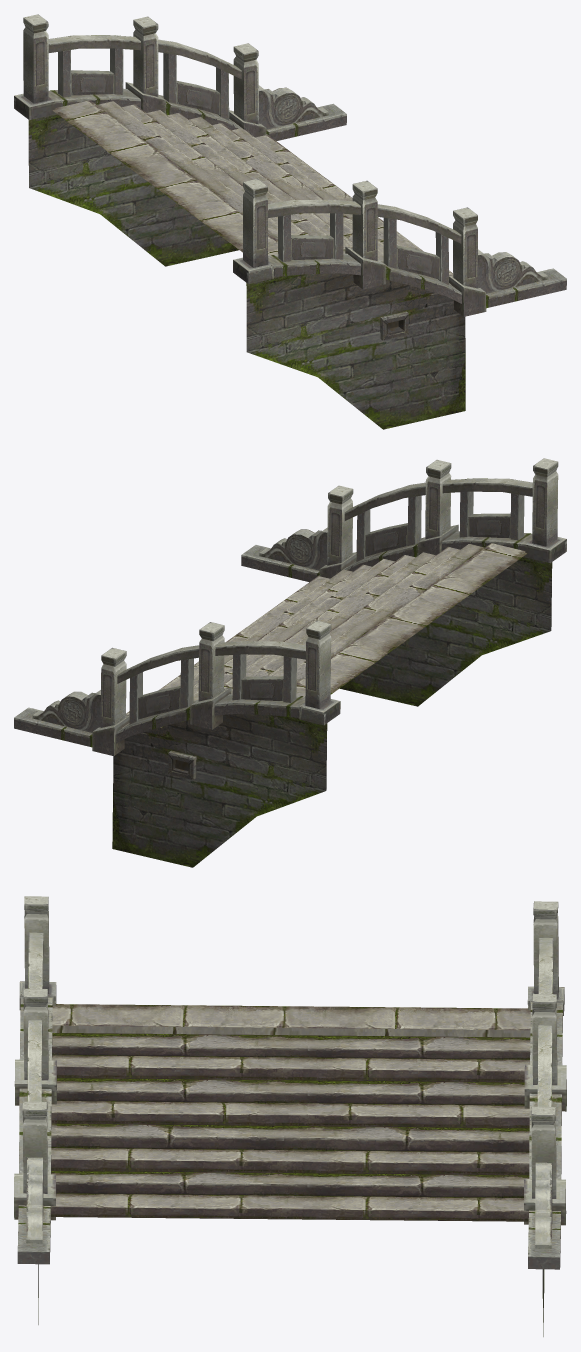
The model's file is jd_louti_1.FBX.
3 views of the same model, one above another, from view 1: azimuth 30°, elevation 25°; view 2: azimuth 150°, elevation 25°; view 3: azimuth 270°, elevation 25° (orthographic). The views are drawn at different scales.
Visible parts, largest first — view 1: jd_louti_1; view 2: jd_louti_1; view 3: jd_louti_1.
Boxes of the visible parts, left/top/right/bottom form: jd_louti_1: left=14, top=14, right=566, bottom=429; jd_louti_1: left=14, top=458, right=566, bottom=867; jd_louti_1: left=14, top=896, right=566, bottom=1336.
Bounding box in the file's own units: 971 × 805 × 1270.
